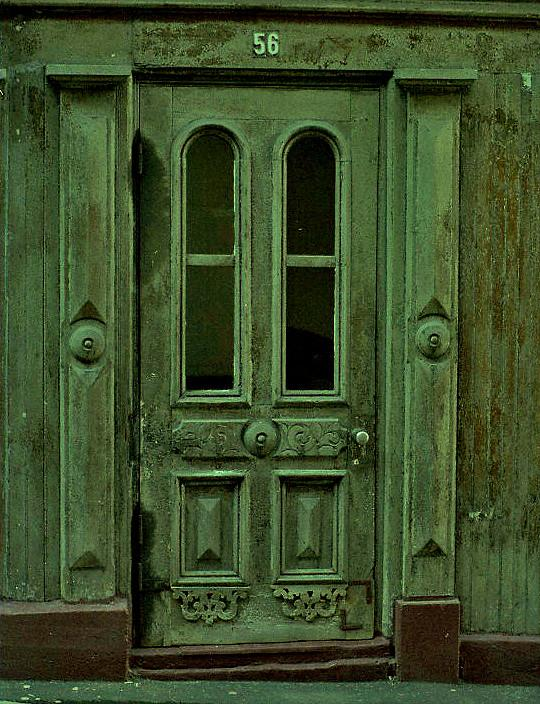door: (135, 74, 386, 652)
